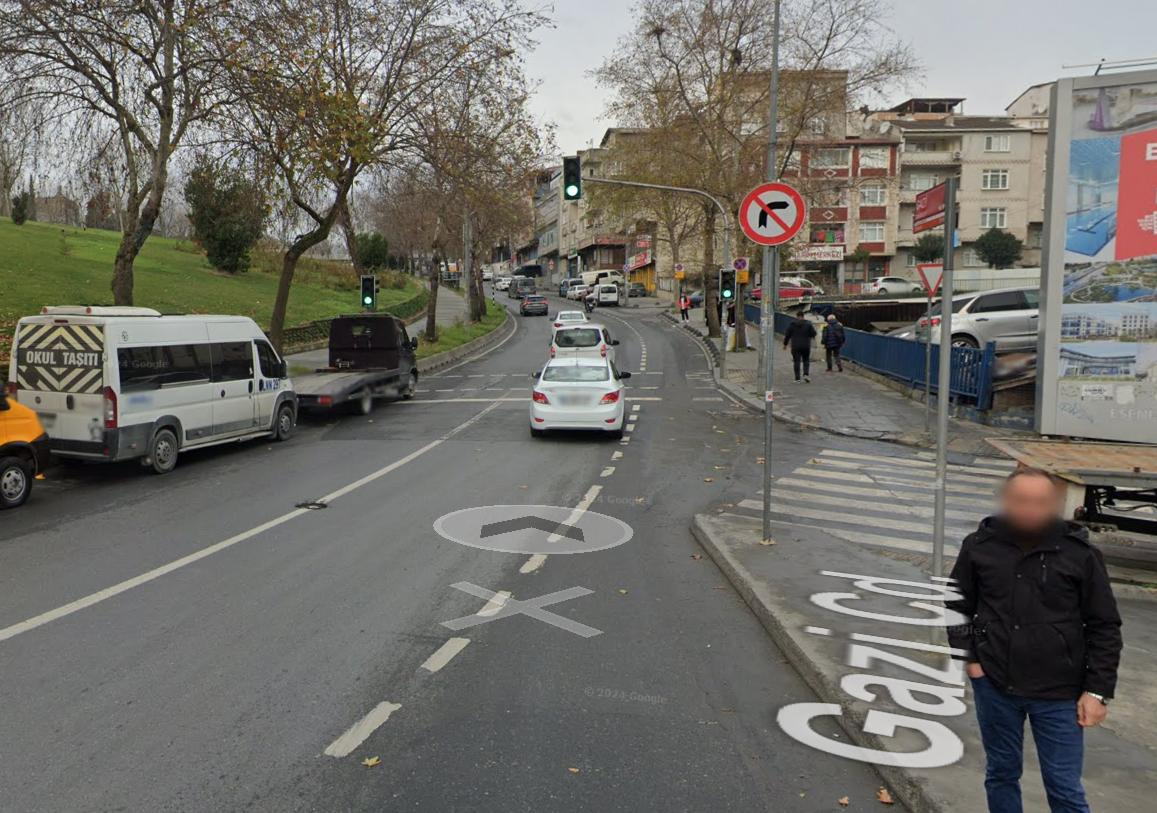greenlight: (562, 157, 583, 200), (720, 270, 736, 302), (361, 278, 375, 308)
rightturnsareforbidden: (739, 185, 802, 242)
